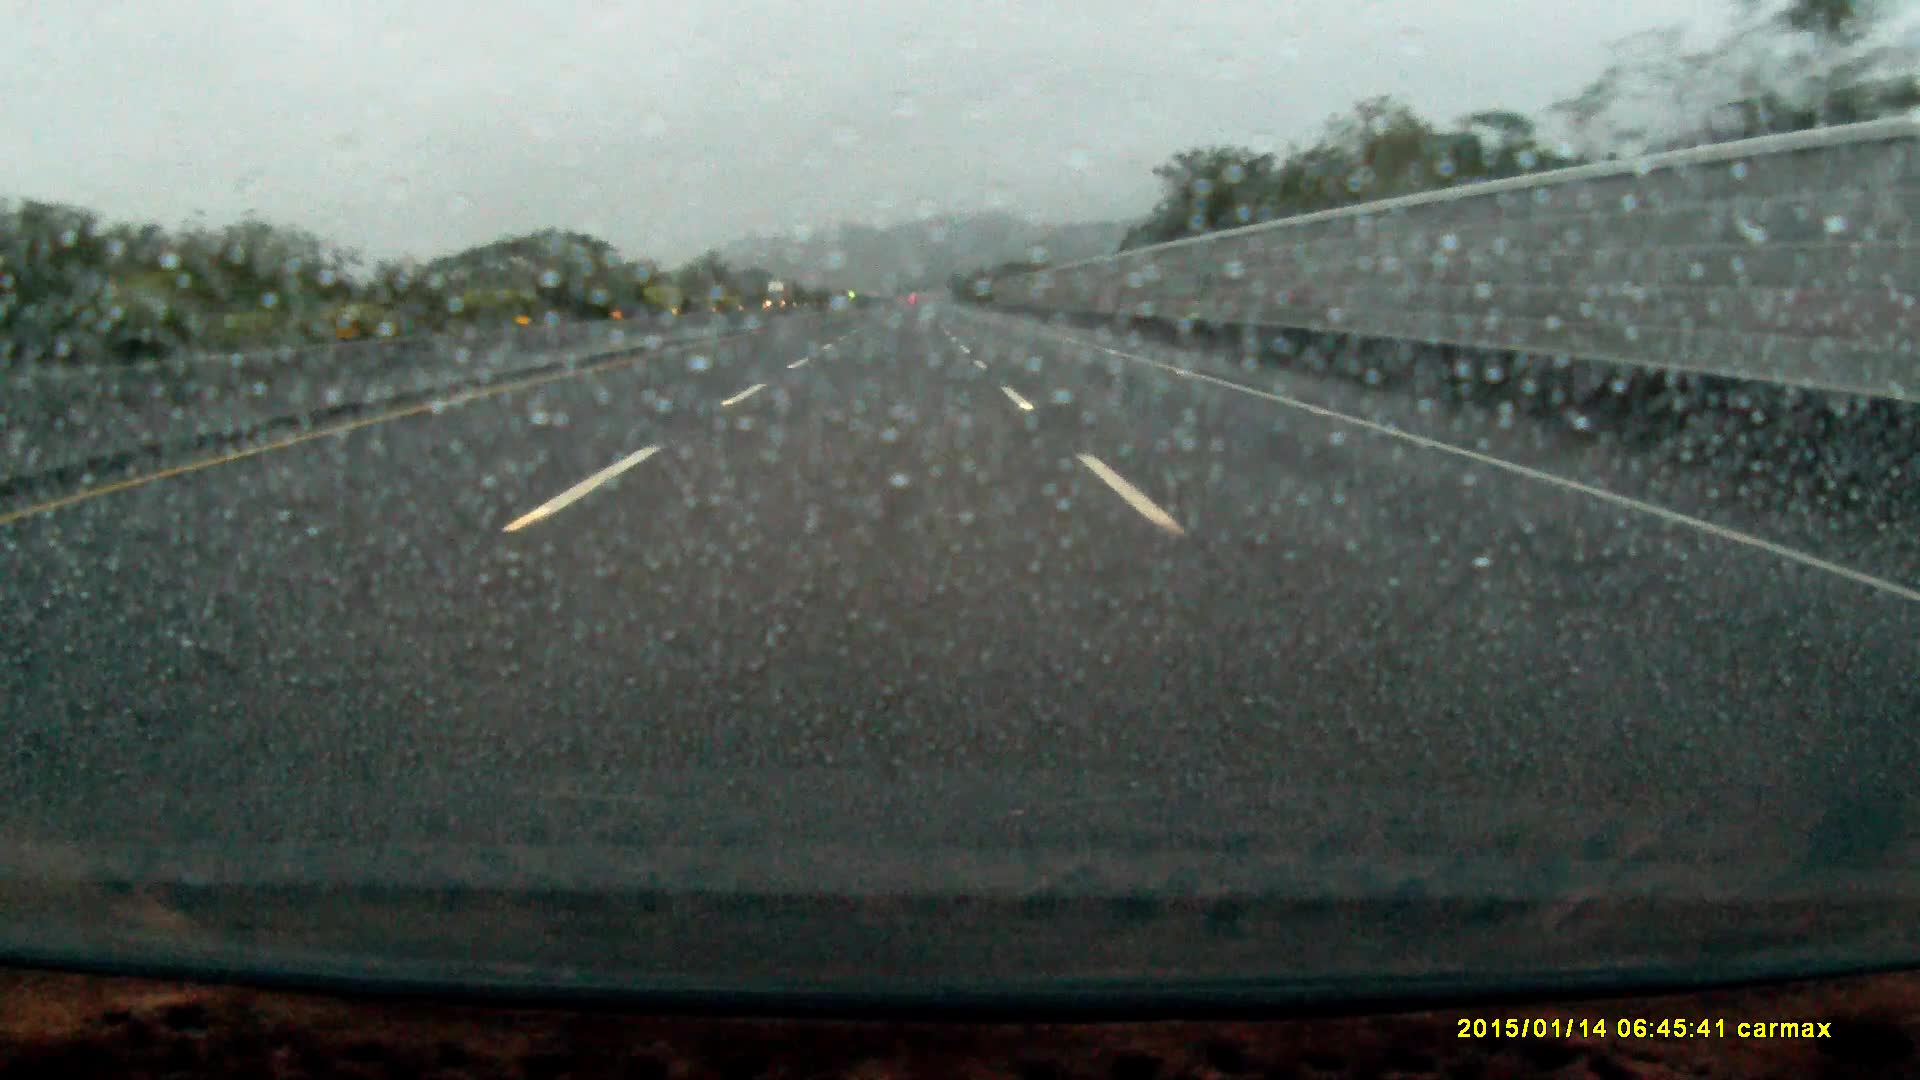vehicle: (766, 280, 793, 307)
